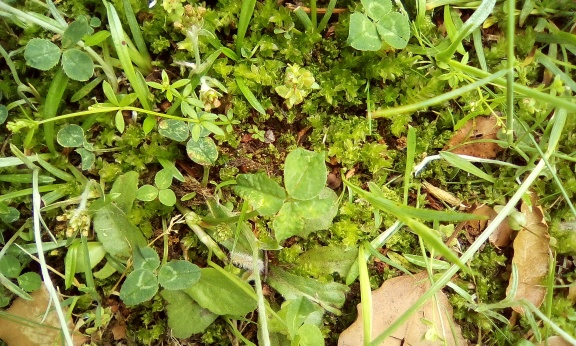4leaf: (232, 147, 333, 244)
